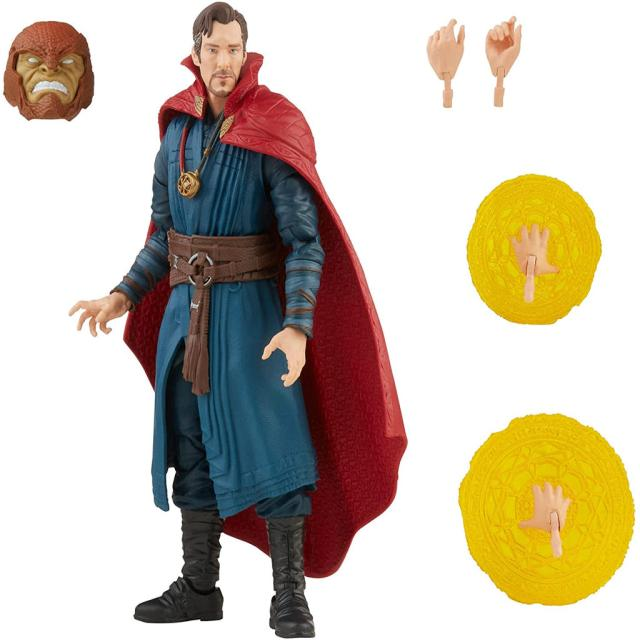doctor_strange: (142, 1, 408, 632)
